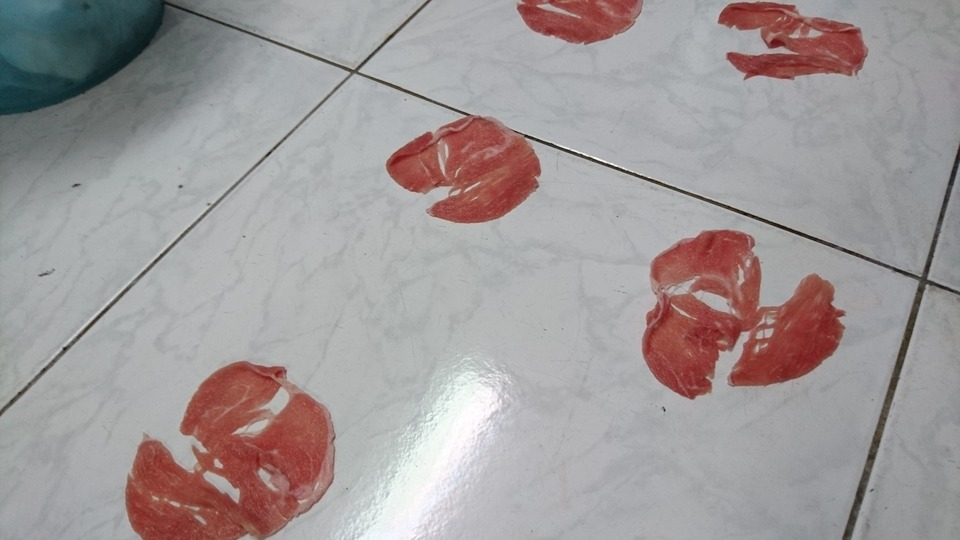restructured meat: (125, 332, 343, 535), (631, 220, 845, 411), (384, 96, 541, 224), (720, 7, 871, 84), (508, 1, 647, 54)
